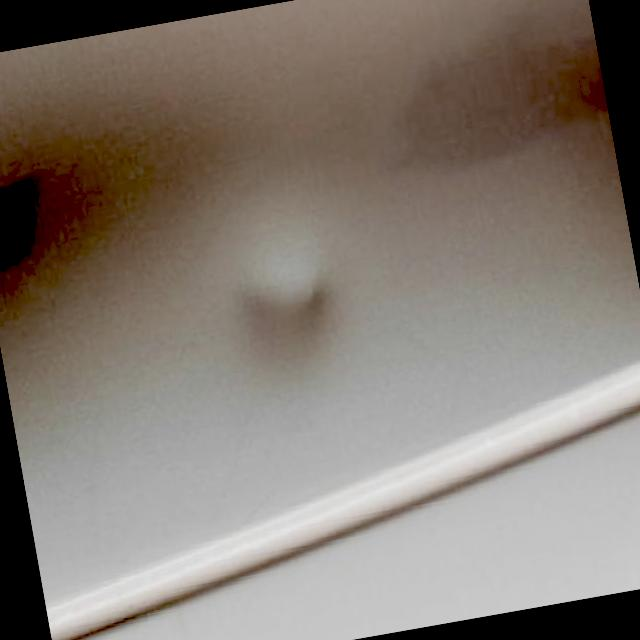dent: (220, 238, 338, 338)
